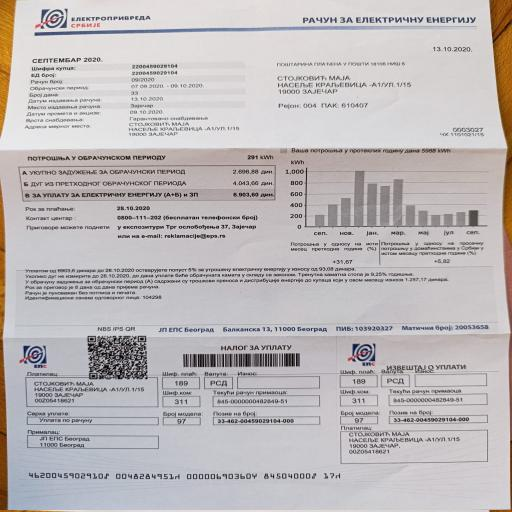racun_za_struju: (8, 149, 283, 214)
